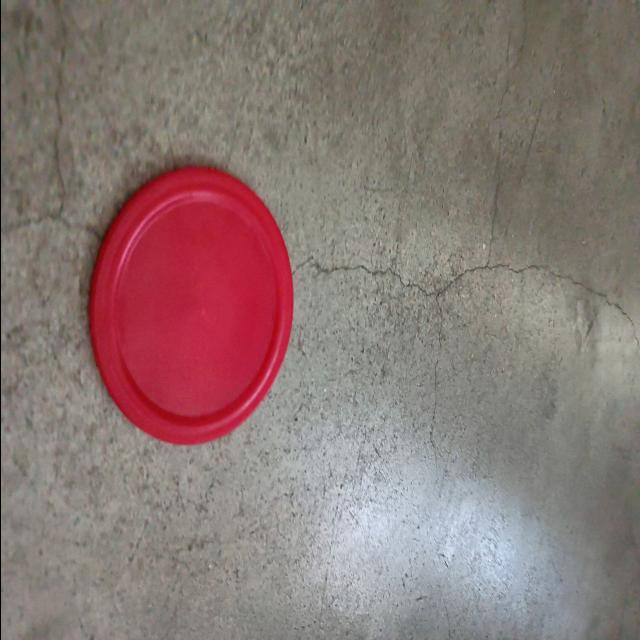chip: (85, 162, 293, 448)
